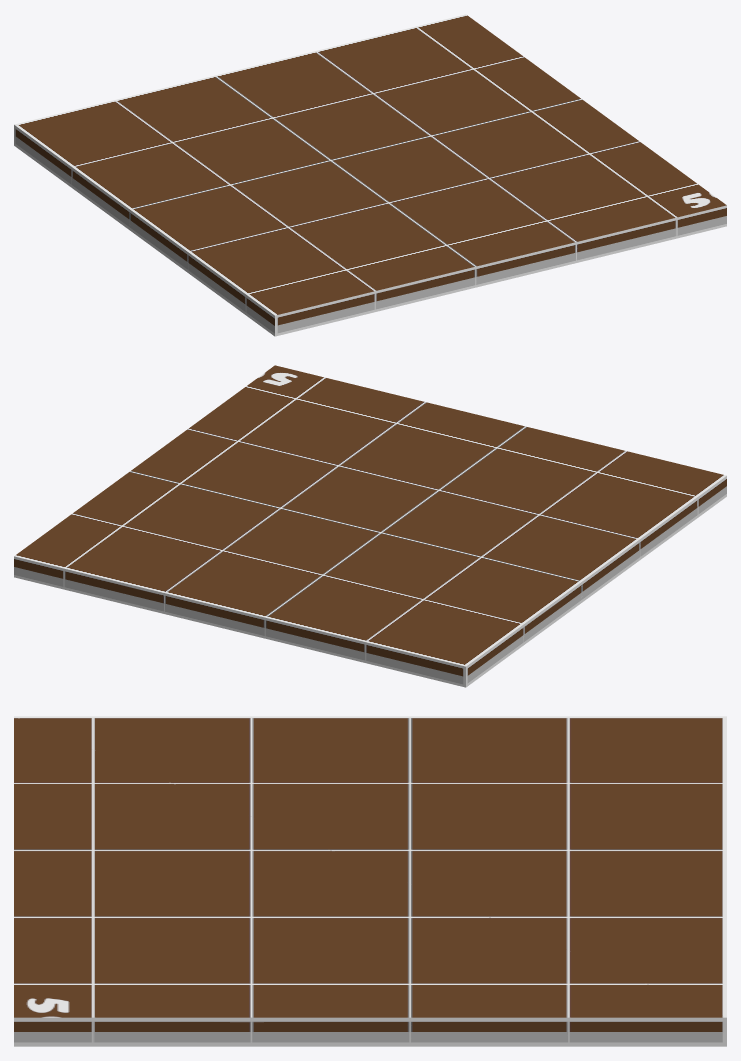
The model's file is M01Floor01_5.FBX.
3 renders of one model, top to bottom at view 1: azimuth 30°, elevation 25°; view 2: azimuth 150°, elevation 25°; view 3: azimuth 270°, elevation 25°, orthographic. The views are drawn at different scales.
Visible parts, largest first — view 1: M01Floor01_5; view 2: M01Floor01_5; view 3: M01Floor01_5.
Part boxes in pixels (x1,y1,x2,y2): M01Floor01_5: (14,14,726,336); M01Floor01_5: (14,365,726,687); M01Floor01_5: (14,716,726,1046).
Size of what is drawn, in the model's own units: 2.25 by 0.1 by 2.25.
